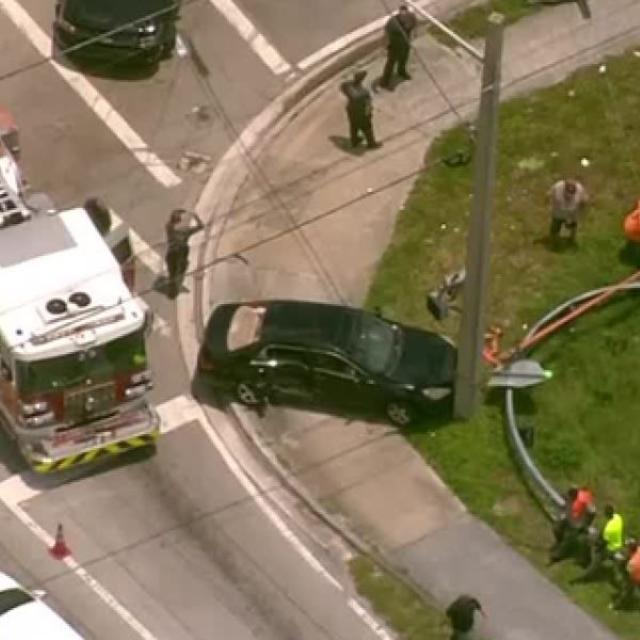traffic_incident: (203, 276, 457, 438)
